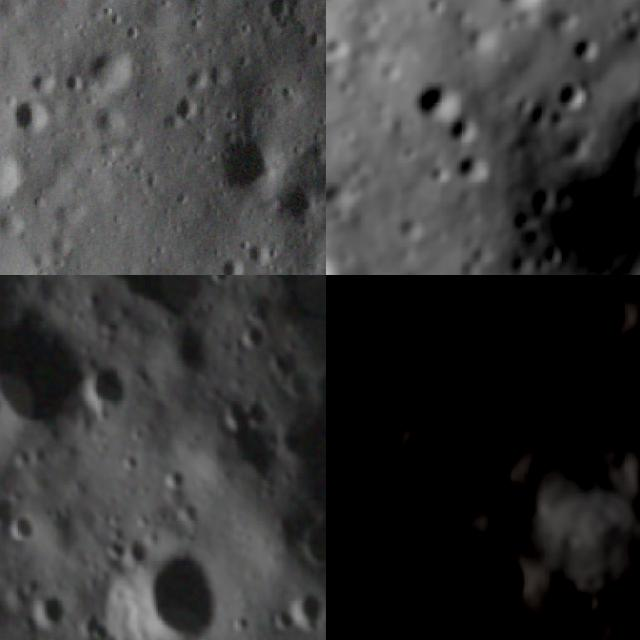crater: (415, 509, 572, 640), (95, 542, 226, 640), (542, 164, 640, 275), (0, 319, 86, 445), (516, 379, 618, 476), (206, 122, 290, 205), (77, 38, 146, 100), (408, 65, 466, 125), (270, 174, 326, 234), (83, 357, 132, 422), (9, 91, 62, 143), (164, 322, 211, 376), (0, 143, 34, 208), (613, 307, 640, 388), (239, 224, 282, 274), (23, 591, 69, 635), (177, 56, 221, 101), (561, 27, 607, 66), (552, 75, 592, 118), (290, 587, 326, 633), (168, 92, 206, 134), (453, 147, 491, 187), (445, 107, 481, 149), (238, 389, 274, 429), (56, 62, 91, 101), (8, 514, 45, 550), (309, 28, 326, 103), (485, 0, 552, 19), (220, 397, 254, 432), (254, 0, 296, 27), (122, 533, 153, 568), (238, 317, 268, 353), (270, 601, 297, 638), (81, 608, 112, 640), (326, 30, 351, 69), (162, 461, 188, 498), (214, 252, 251, 275), (118, 448, 146, 476), (230, 608, 256, 636), (103, 536, 127, 565), (10, 447, 34, 475), (210, 275, 230, 291)
